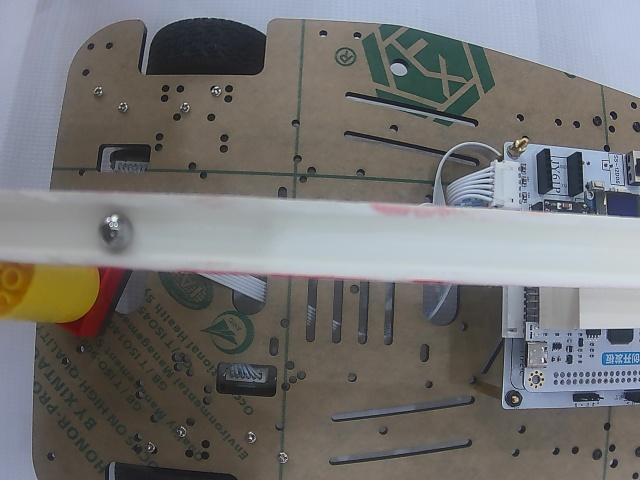steelball: (98, 214, 133, 248)
